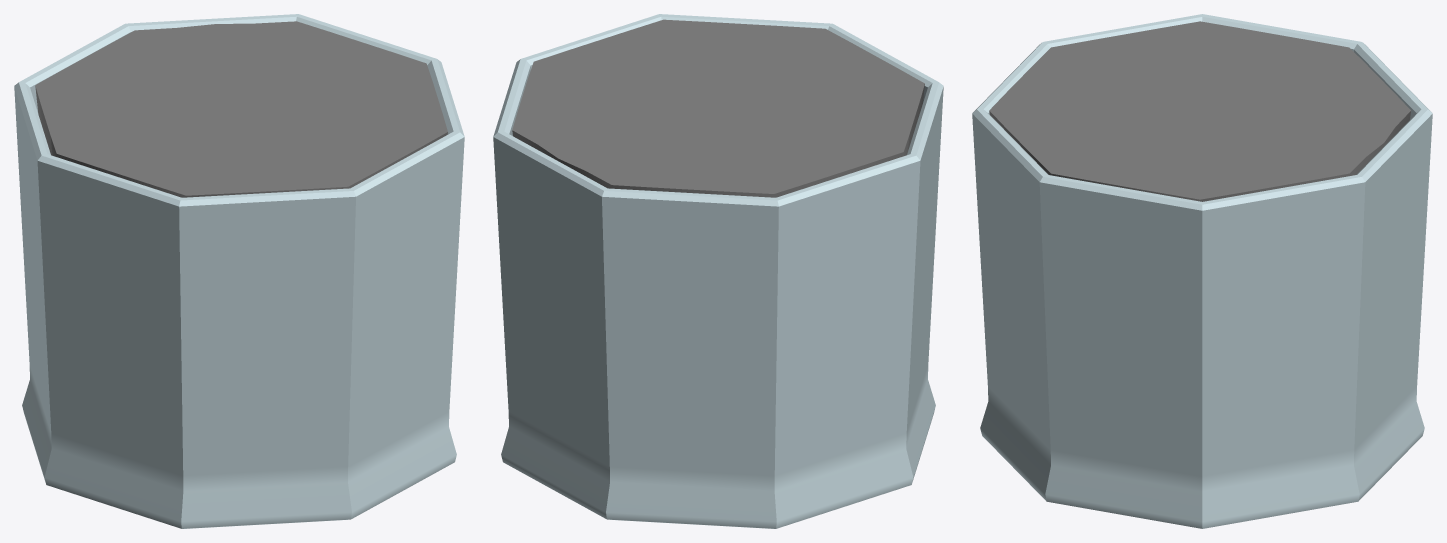
The picture shows the model from 3 angles, left to right: view 1: azimuth 30°, elevation 25°; view 2: azimuth 150°, elevation 25°; view 3: azimuth 270°, elevation 25°; orthographic projection.
Parts seen in each view (by area): view 1: ScotchGlassWLiquid; view 2: ScotchGlassWLiquid; view 3: ScotchGlassWLiquid.
Boxes of the visible parts, x1,y1,x2,y2 form: ScotchGlassWLiquid: [14, 14, 464, 528]; ScotchGlassWLiquid: [493, 14, 943, 528]; ScotchGlassWLiquid: [972, 14, 1432, 528].
Size of the model in its own units: 12.57 by 9.93 by 12.57.
